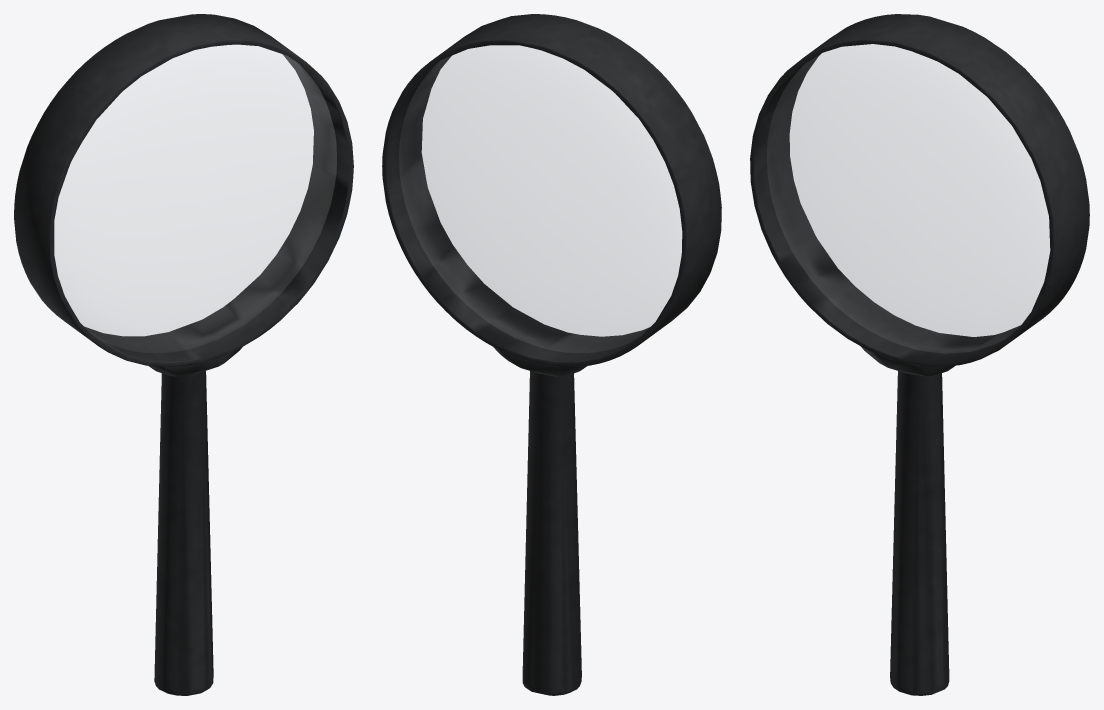
The model's file is ph_magnifying_glass_01.glb.
The picture shows the model from 3 angles, left to right: view 1: azimuth 30°, elevation 25°; view 2: azimuth 150°, elevation 25°; view 3: azimuth 330°, elevation 25°; orthographic projection.
Visible parts, largest first — view 1: magnifying_glass_01; view 2: magnifying_glass_01; view 3: magnifying_glass_01.
Part boxes in pixels (x1,y1,x2,y2): magnifying_glass_01: (14,14,353,695); magnifying_glass_01: (382,14,721,695); magnifying_glass_01: (750,14,1089,695).
Bounding box in the file's own units: 0.132 × 0.2714 × 0.0267.
Materials: 2 (1 with a texture image).
